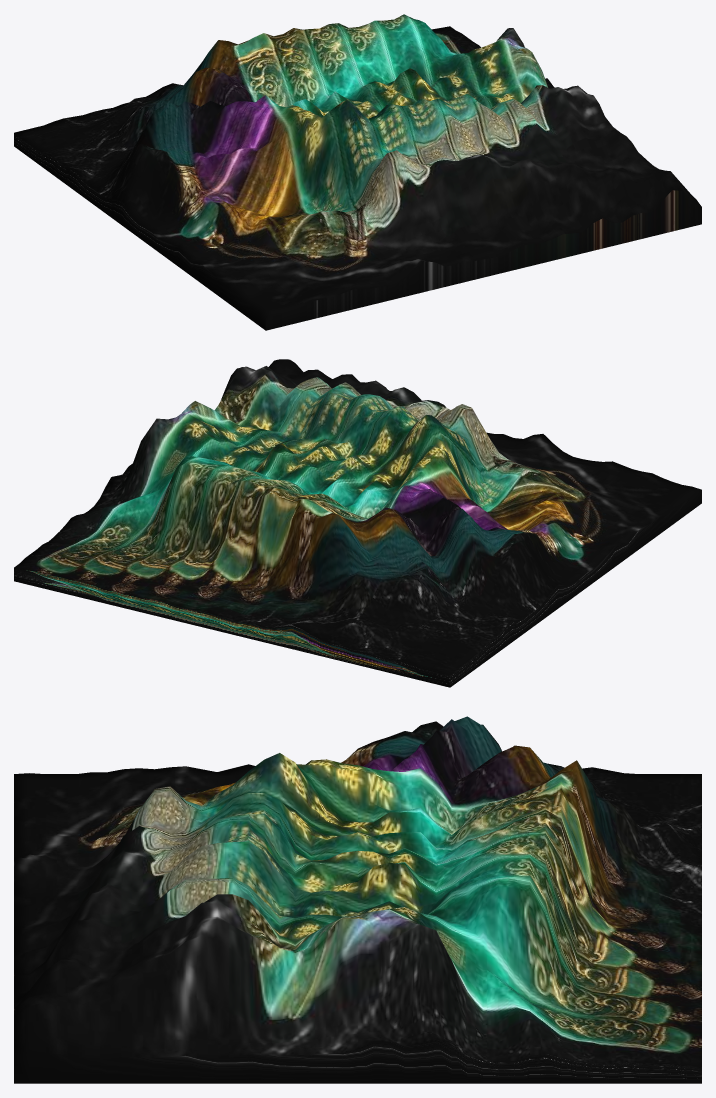
Rendered from Jade_Slips_Manuals_Set_20.glb.
3 renders of one model, top to bottom at view 1: azimuth 30°, elevation 25°; view 2: azimuth 150°, elevation 25°; view 3: azimuth 270°, elevation 25°, orthographic. The views are drawn at different scales.
Parts seen in each view (by area): view 1: Jade_Slips_Manuals_Set_20; view 2: Jade_Slips_Manuals_Set_20; view 3: Jade_Slips_Manuals_Set_20.
Part boxes in pixels (<box>): Jade_Slips_Manuals_Set_20: <box>14,14,701,330</box>; Jade_Slips_Manuals_Set_20: <box>14,359,701,687</box>; Jade_Slips_Manuals_Set_20: <box>14,716,701,1083</box>.
Size of the model in its own units: 2 by 0.51 by 2.
1 material, 1 textured.
